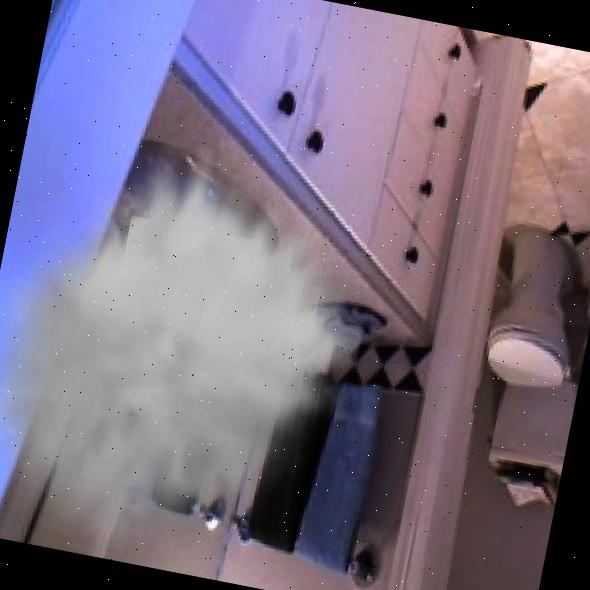smoke: (0, 113, 390, 590)
